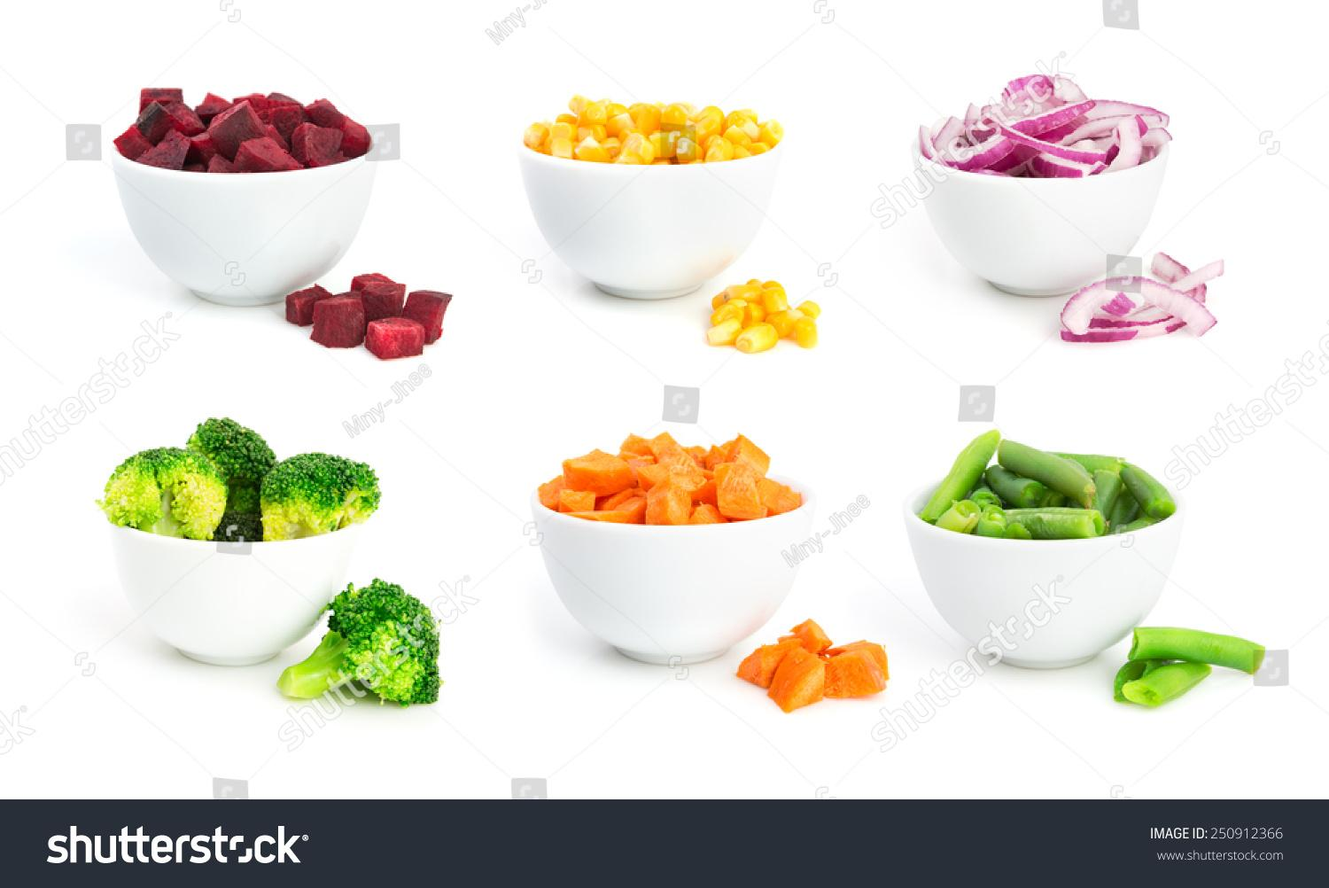beans: (948, 428, 1274, 752)
beetroot: (97, 29, 463, 361)
broccoli: (281, 584, 448, 711)
brocolli: (82, 406, 538, 751)
carror: (551, 408, 931, 728)
corn: (498, 68, 920, 394)
onion: (944, 62, 1281, 409)
